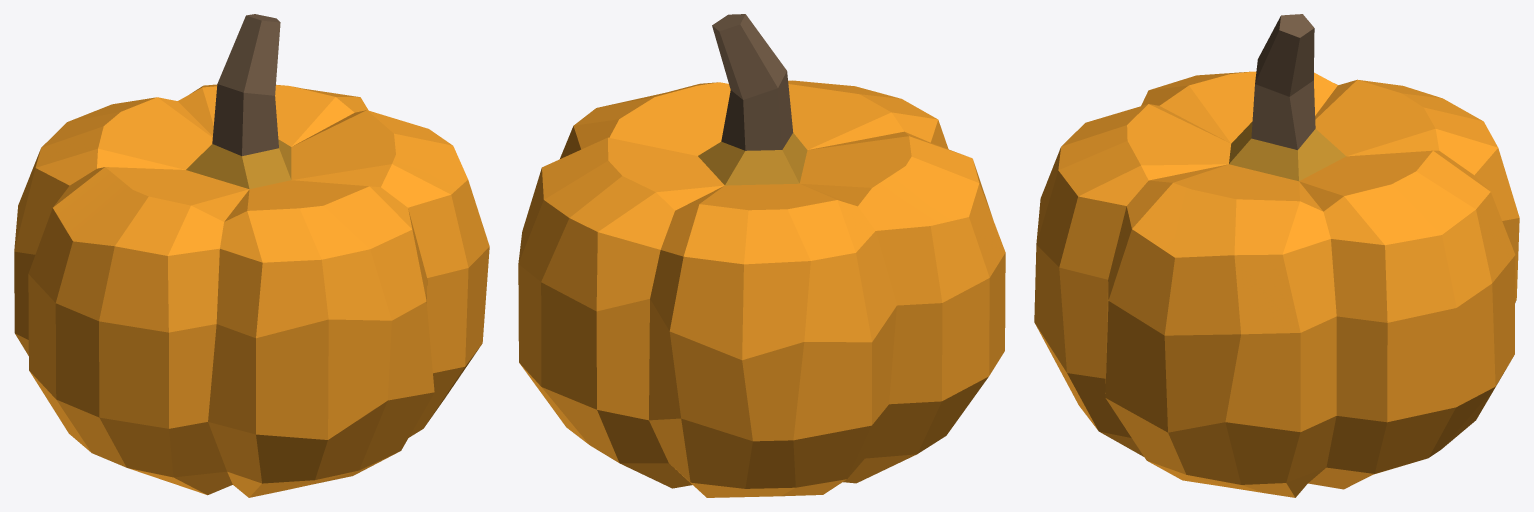
Rendered from Pumpkin_Raw.fbx.
The picture shows the model from 3 angles, left to right: view 1: azimuth 30°, elevation 25°; view 2: azimuth 150°, elevation 25°; view 3: azimuth 270°, elevation 25°; orthographic projection. The views are drawn at different scales.
Visible parts, largest first — view 1: SM_Pumpkin_Raw; view 2: SM_Pumpkin_Raw; view 3: SM_Pumpkin_Raw.
Part boxes in pixels (x1,y1,x2,y2): SM_Pumpkin_Raw: [14, 14, 489, 497]; SM_Pumpkin_Raw: [518, 14, 1005, 497]; SM_Pumpkin_Raw: [1034, 14, 1519, 497].
Size of the model in its own units: 27.72 by 27.42 by 27.34.
Materials: 1 (1 with a texture image).
